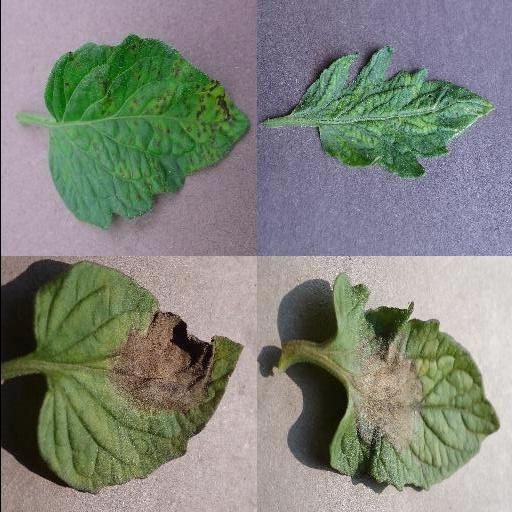Late Blight: (34, 260, 244, 496), (328, 273, 500, 491)
Mosaic Virus: (296, 46, 496, 180)
Septoria: (42, 34, 250, 232)
